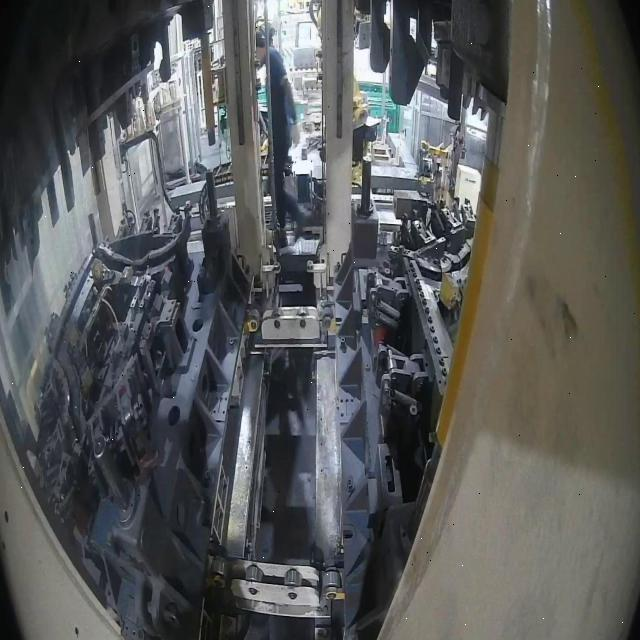Person: (255, 27, 307, 245)
